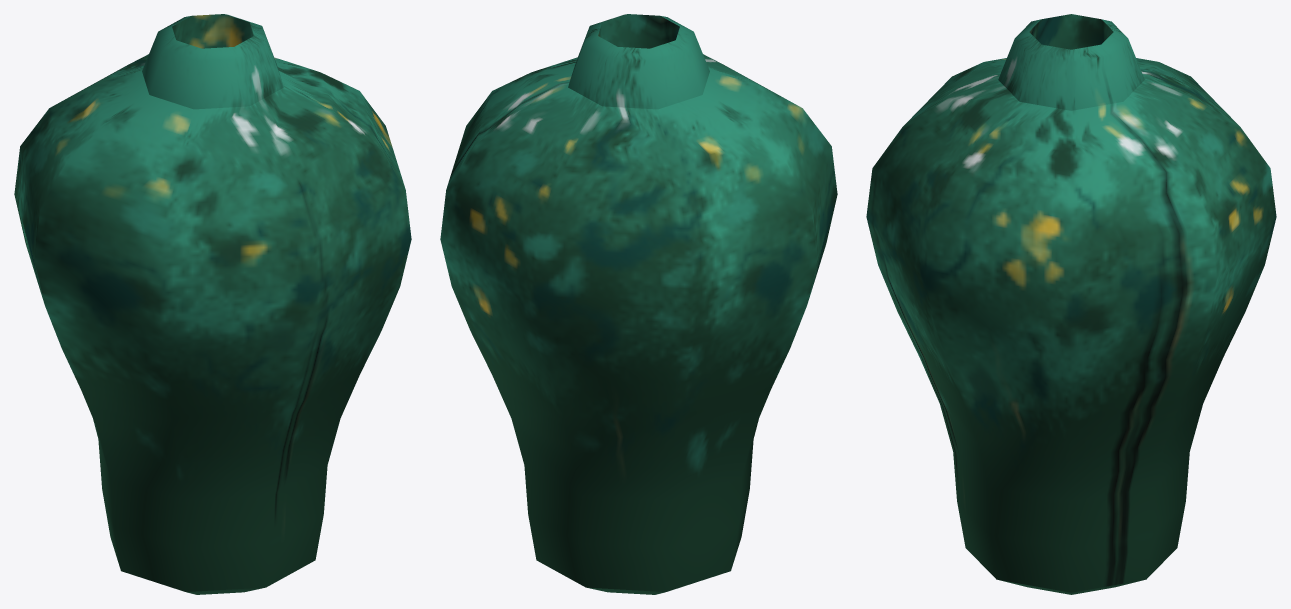
File: Vase_Curved_Jade.fbx
3 renders of one model, left to right at view 1: azimuth 30°, elevation 25°; view 2: azimuth 150°, elevation 25°; view 3: azimuth 270°, elevation 25°, orthographic.
Visible parts, largest first — view 1: Vase_Curved_Jade; view 2: Vase_Curved_Jade; view 3: Vase_Curved_Jade.
Part boxes in pixels (<box>): Vase_Curved_Jade: <box>14,14,411,594</box>; Vase_Curved_Jade: <box>440,14,837,594</box>; Vase_Curved_Jade: <box>866,14,1276,594</box>.
Size of the model in its own units: 19.61 by 28.57 by 19.61.
